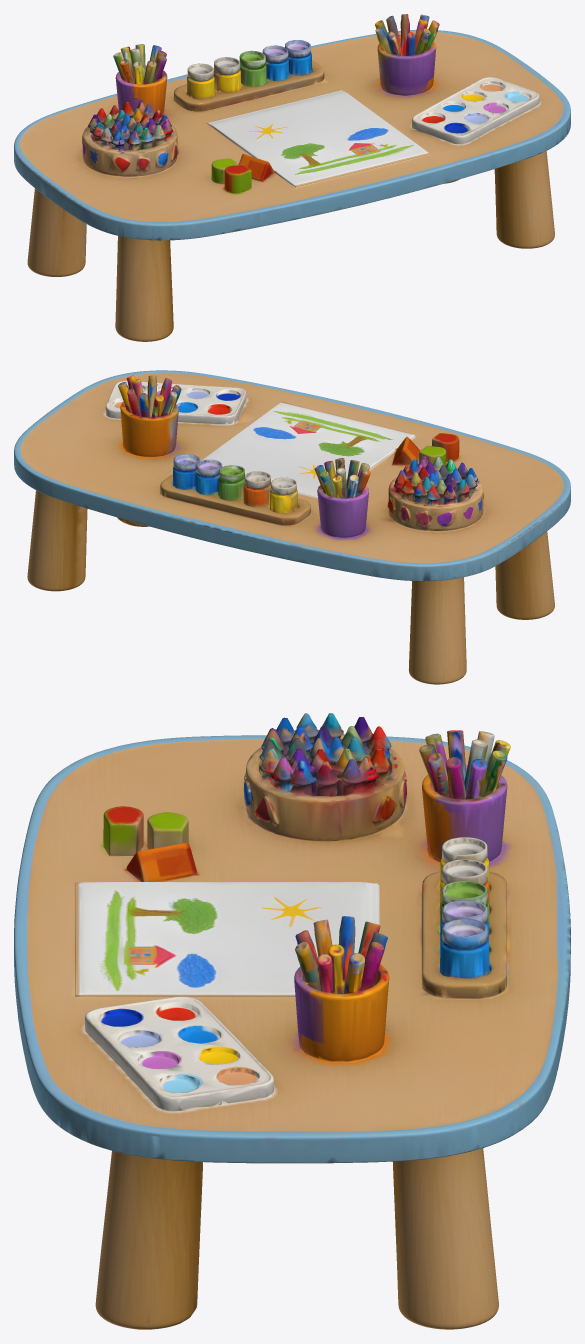
File: table.glb
The picture shows the model from 3 angles, top to bottom: view 1: azimuth 30°, elevation 25°; view 2: azimuth 150°, elevation 25°; view 3: azimuth 270°, elevation 25°; orthographic projection. The views are drawn at different scales.
Parts seen in each view (by area): view 1: node_0; view 2: node_0; view 3: node_0.
Boxes of the visible parts, x1,y1,x2,y2 form: node_0: (14,14,570,341); node_0: (14,370,570,684); node_0: (14,713,570,1329).
Size of the model in its own units: 1.17 by 0.438 by 0.682.
Materials: 1 (1 with a texture image).
